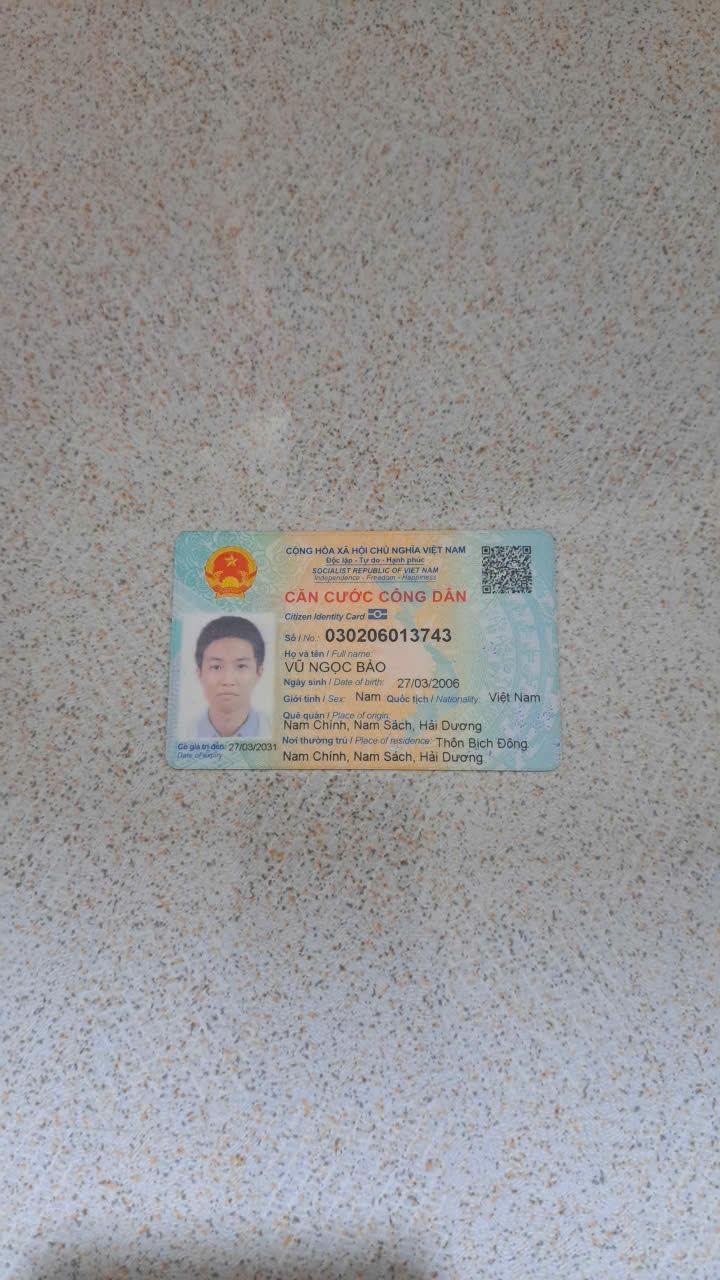cccd: (153, 515, 574, 781)
